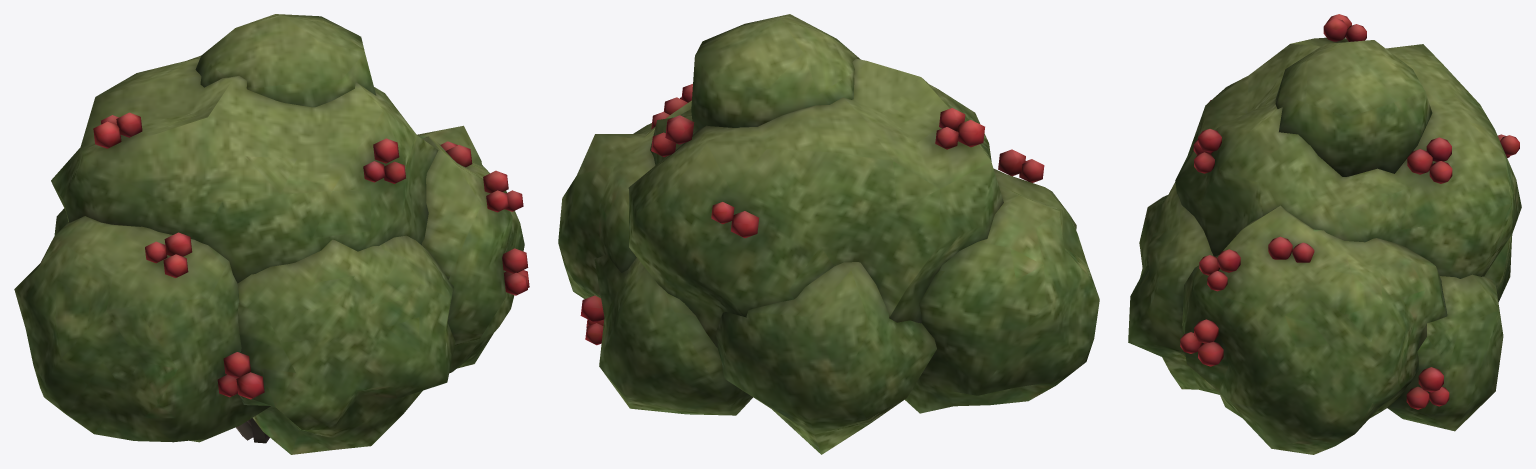
File: fm_berry_bush_full.glb
The picture shows the model from 3 angles, left to right: view 1: azimuth 30°, elevation 25°; view 2: azimuth 150°, elevation 25°; view 3: azimuth 270°, elevation 25°; orthographic projection. The views are drawn at different scales.
Visible parts, largest first — view 1: fm_berry_bush_full; view 2: fm_berry_bush_full; view 3: fm_berry_bush_full.
Boxes of the visible parts, x1,y1,x2,y2 form: fm_berry_bush_full: (14,14,529,454); fm_berry_bush_full: (558,14,1099,454); fm_berry_bush_full: (1128,14,1521,454).
Size of the model in its own units: 0.7498 by 0.5953 by 0.5554.
Materials: 2 (2 with a texture image).
